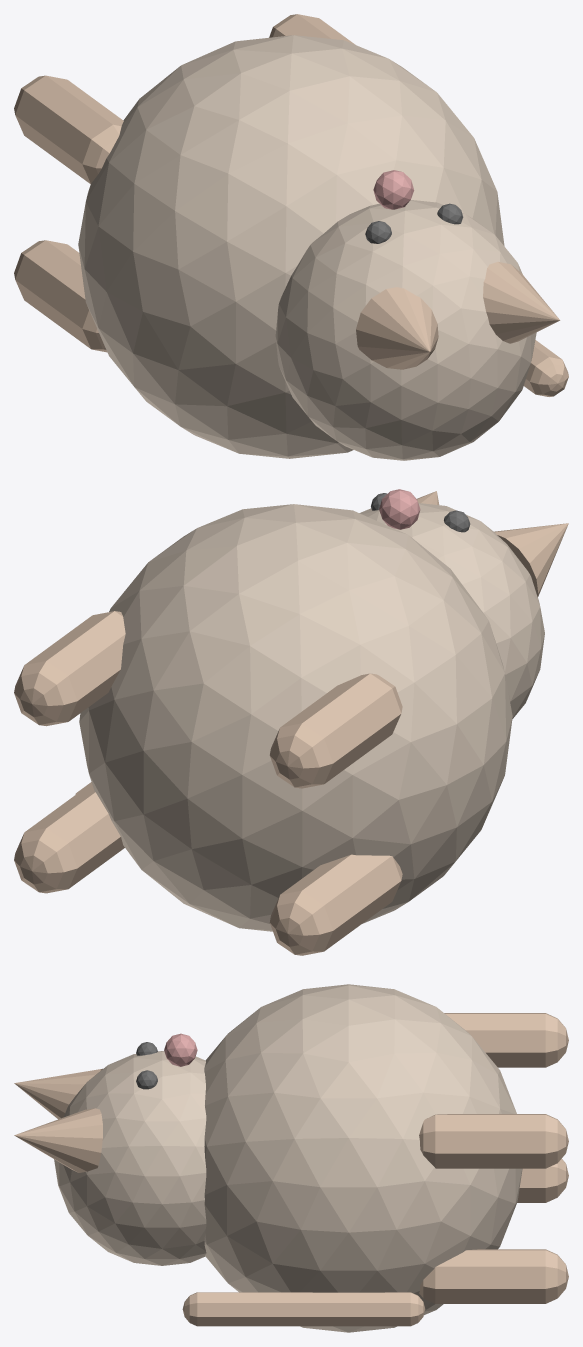
File: cat.glb
The picture shows the model from 3 angles, top to bottom: view 1: azimuth 30°, elevation 25°; view 2: azimuth 150°, elevation 25°; view 3: azimuth 270°, elevation 25°; orthographic projection. The views are drawn at different scales.
Visible parts, largest first — view 1: world; view 2: world; view 3: world.
Boxes of the visible parts, left/top/right/bottom form: world: left=14, top=14, right=568, bottom=460; world: left=14, top=489, right=568, bottom=955; world: left=14, top=984, right=568, bottom=1332.
Size of the model in its own units: 0.752 by 0.752 by 1.19.
